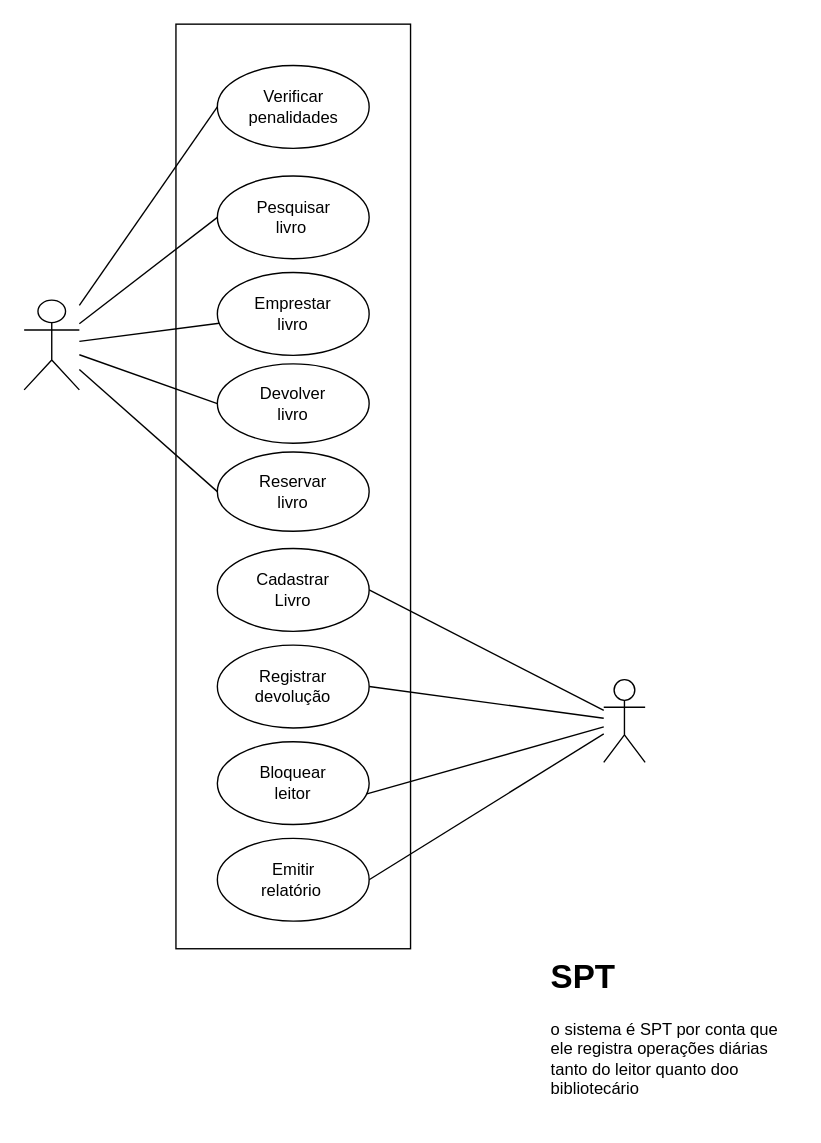
Some shapes in this 821 by 1143 pixel diagram are drawn without their labels. Each missing label, with the centre of its shape:
"Bibliotecario" goes at point (623, 720).
"Leitor" goes at point (51, 344).
